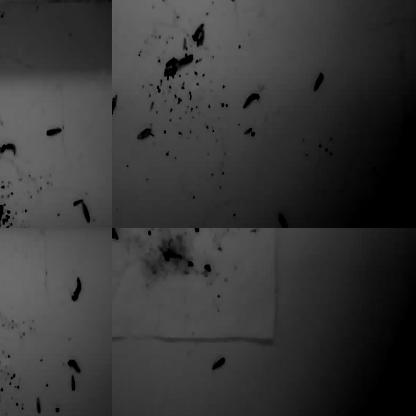PtecticusTenebrifer: (174, 53, 194, 69), (244, 92, 260, 108), (313, 72, 325, 93), (192, 22, 204, 41), (81, 202, 91, 224), (137, 127, 153, 140), (74, 276, 82, 300), (196, 27, 206, 46), (45, 127, 62, 138), (212, 358, 226, 371), (1, 142, 16, 154), (68, 358, 80, 372), (277, 213, 288, 228), (0, 142, 11, 156), (0, 327, 9, 344), (35, 396, 42, 414), (112, 309, 117, 334), (112, 95, 118, 115), (70, 375, 76, 394), (0, 279, 8, 293), (0, 189, 5, 210), (0, 307, 7, 322), (112, 259, 119, 272), (0, 332, 4, 354), (0, 15, 5, 32), (0, 129, 4, 149), (0, 305, 5, 321), (112, 173, 118, 186), (202, 228, 215, 234), (0, 228, 7, 239), (120, 0, 135, 5), (0, 186, 4, 204), (0, 93, 5, 107), (325, 0, 339, 5), (0, 328, 7, 338), (231, 0, 247, 4), (226, 0, 232, 10), (112, 228, 120, 235), (205, 0, 216, 5), (95, 0, 108, 4), (0, 228, 5, 238), (112, 228, 118, 235), (283, 0, 293, 3), (0, 228, 6, 233)
